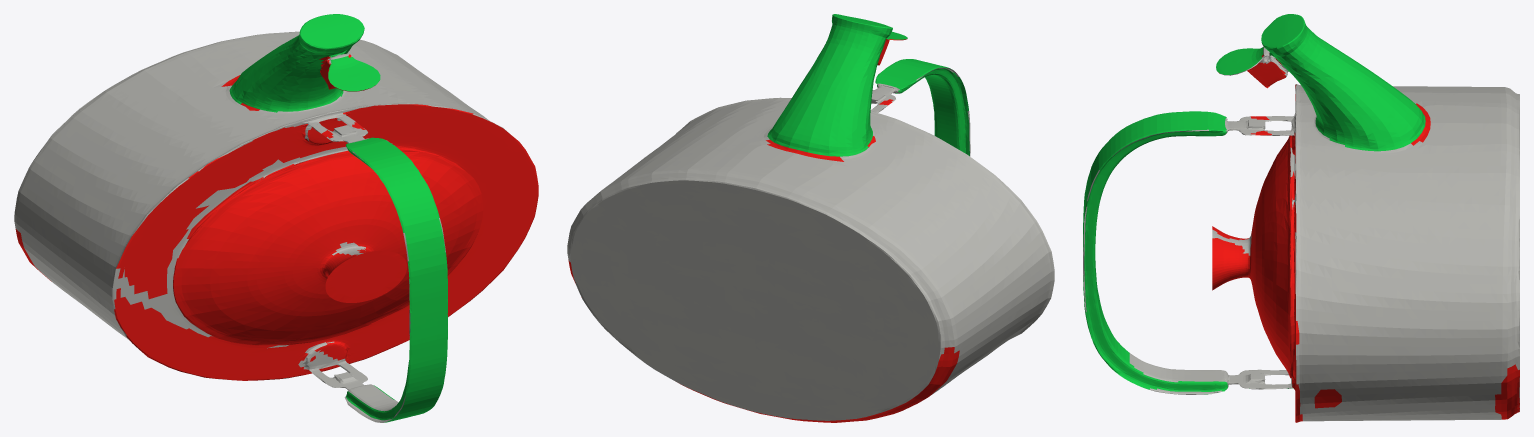
File: kettle.obj
3 views of the same model, side by side, from view 1: azimuth 30°, elevation 25°; view 2: azimuth 150°, elevation 25°; view 3: azimuth 270°, elevation 25° (orthographic). The views are drawn at different scales.
Size of the model in its own units: 0.095 by 0.075 by 0.082.
